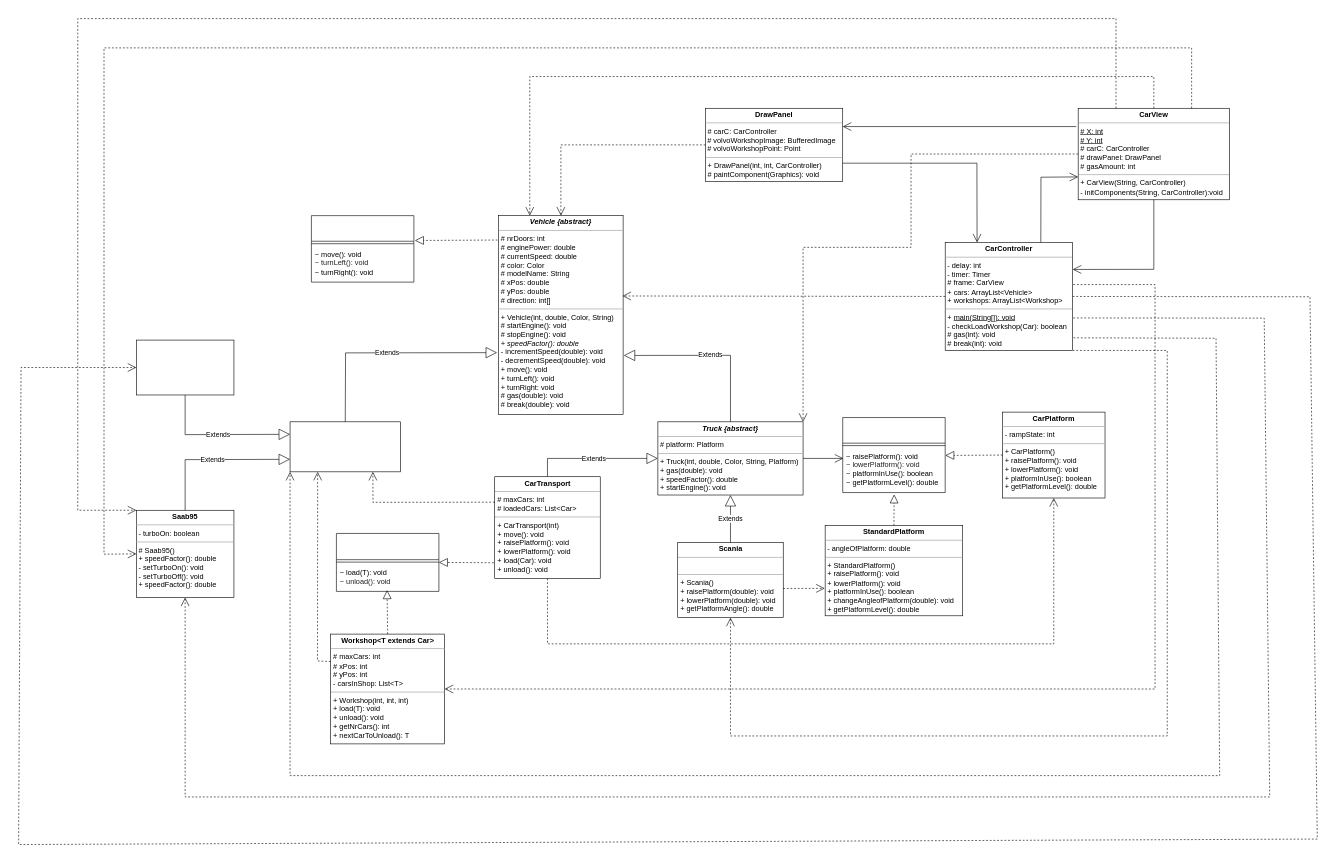
This 1337x864 diagram has some shape labels left out. The shapes that lost their labels are listed below. From the top down, each one's box as (x1, y1, x2, y2) in pixels, then its label:
(311, 215, 414, 282): <<Interface>> Movable
(136, 339, 234, 395): Volvo240 - trimFactor : double # Volvo240() + speedFactor(): double
(289, 421, 400, 472): Car {abstract} + Car(int, doble, Color, String)
(842, 417, 945, 493): <<Interface>> Platform
(336, 533, 439, 591): <<Interface>> Loadable<T extends Car>
